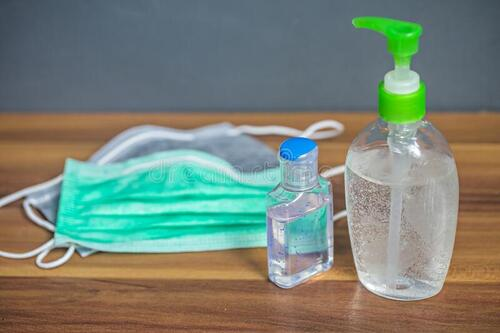sanitizer: (348, 15, 458, 300), (268, 136, 332, 289)
